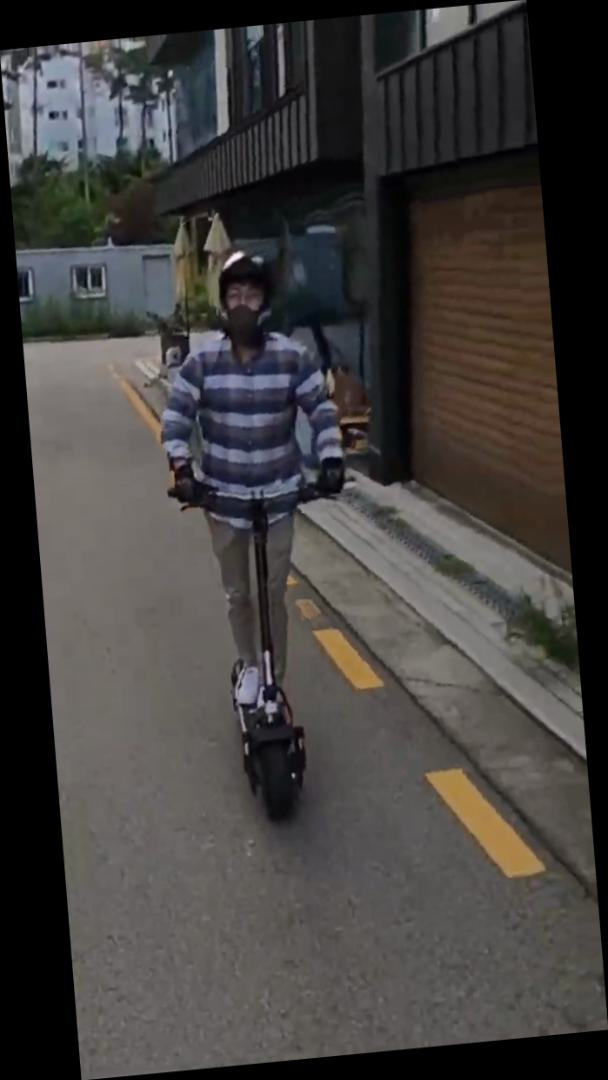helmet: (141, 239, 377, 834)
